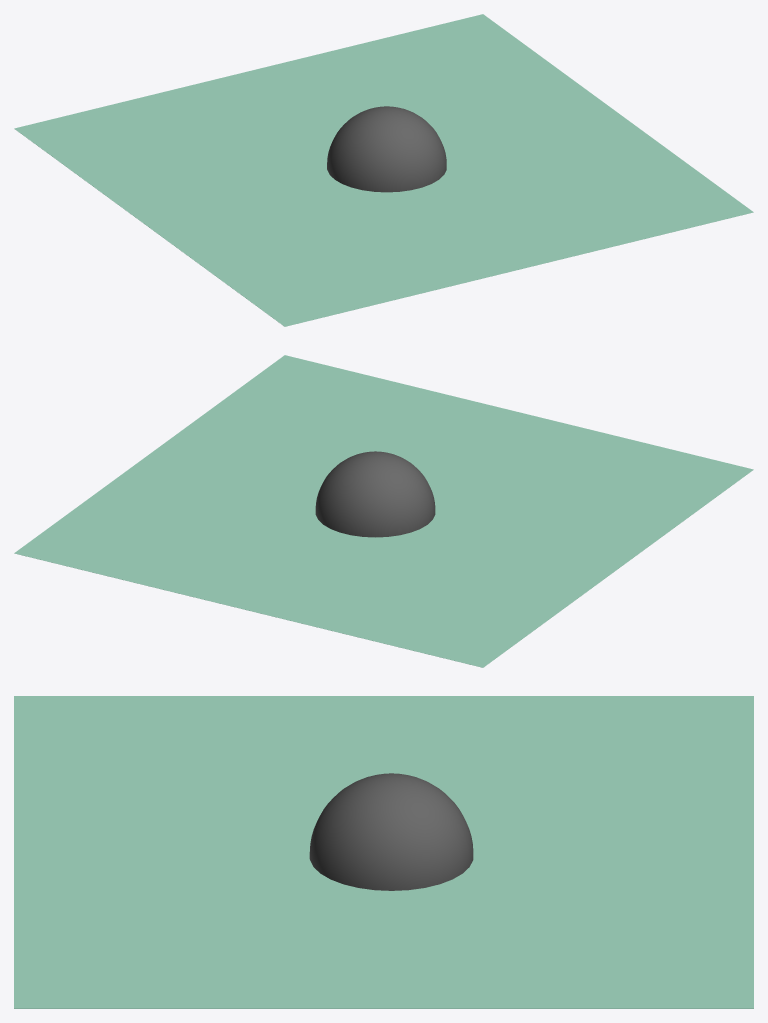
The model's file is placeble__.glb.
3 views of the same model, one above another, from view 1: azimuth 30°, elevation 25°; view 2: azimuth 150°, elevation 25°; view 3: azimuth 270°, elevation 25° (orthographic). The views are drawn at different scales.
Visible parts, largest first — view 1: Cube, Sphere; view 2: Cube, Sphere; view 3: Cube, Sphere.
Part boxes in pixels (bbox=[...]): Cube: bbox=[14, 14, 753, 326]; Sphere: bbox=[327, 106, 446, 192]; Cube: bbox=[14, 355, 753, 667]; Sphere: bbox=[315, 451, 435, 537]; Cube: bbox=[14, 696, 753, 1008]; Sphere: bbox=[309, 773, 473, 890].
Size of the model in its own units: 18 by 4 by 18.
